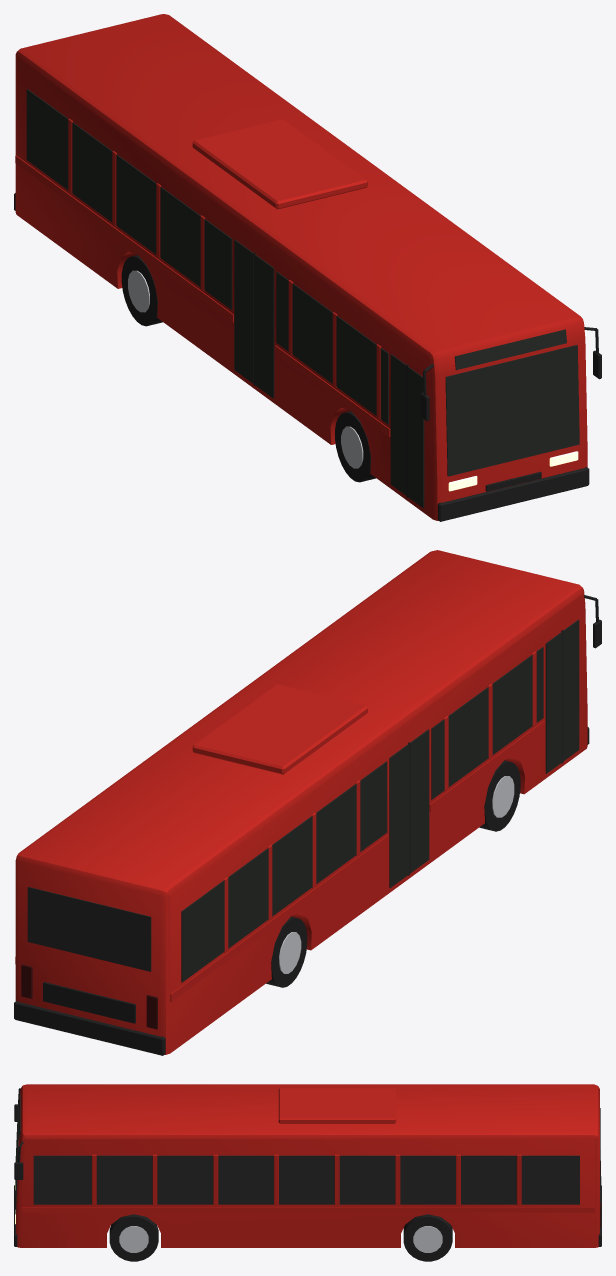
Rendered from colectivo.glb.
The picture shows the model from 3 angles, top to bottom: view 1: azimuth 30°, elevation 25°; view 2: azimuth 150°, elevation 25°; view 3: azimuth 270°, elevation 25°; orthographic projection. The views are drawn at different scales.
Visible parts, largest first — view 1: pieza_carroceria, colectivo_detalles, pieza_rueda_4, pieza_rueda_2; view 2: pieza_carroceria, colectivo_detalles, pieza_rueda_4, pieza_rueda_2, pieza_luces_traseras; view 3: pieza_carroceria, colectivo_detalles, pieza_rueda_3, pieza_rueda_1.
Part boxes in pixels (<box>): pieza_carroceria: <box>15,14,587,520</box>; colectivo_detalles: <box>14,89,601,521</box>; pieza_rueda_4: <box>121,255,162,326</box>; pieza_rueda_2: <box>335,411,375,482</box>; pieza_carroceria: <box>15,550,587,1054</box>; colectivo_detalles: <box>14,595,601,1055</box>; pieza_rueda_4: <box>266,916,307,987</box>; pieza_rueda_2: <box>479,760,520,831</box>; pieza_luces_traseras: <box>21,964,157,1029</box>; pieza_carroceria: <box>16,1084,599,1247</box>; colectivo_detalles: <box>14,1088,601,1246</box>; pieza_rueda_3: <box>403,1214,452,1261</box>; pieza_rueda_1: <box>109,1214,158,1261</box>.
Size of the model in its own units: 2.86 by 3 by 12.
